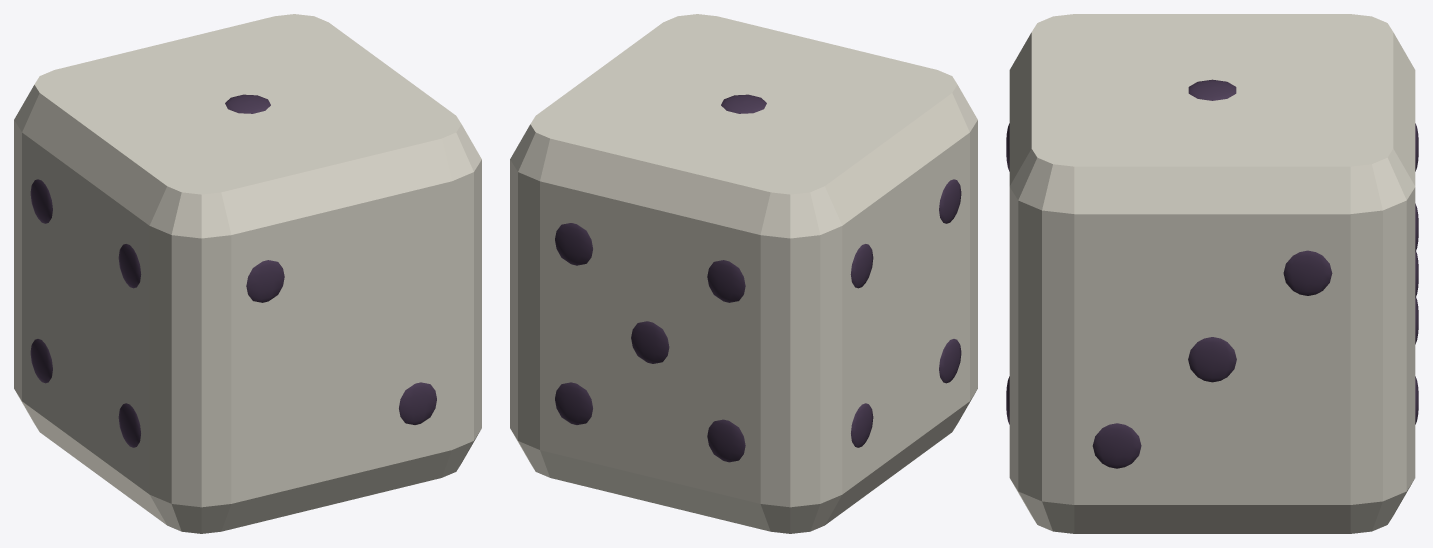
The model's file is dice_cube.glb.
3 views of the same model, side by side, from view 1: azimuth 30°, elevation 25°; view 2: azimuth 150°, elevation 25°; view 3: azimuth 270°, elevation 25° (orthographic). The views are drawn at different scales.
Visible parts, largest first — view 1: die, model; view 2: die, model; view 3: die, model.
Part boxes in pixels (box(x1,y1,x2,y2)): die: box(14, 14, 481, 533); model: box(30, 94, 436, 447); die: box(510, 14, 977, 533); model: box(555, 94, 961, 462); die: box(1009, 14, 1415, 533); model: box(1006, 79, 1418, 468).
Size of the model in its own units: 0.38 by 0.38 by 0.38.
